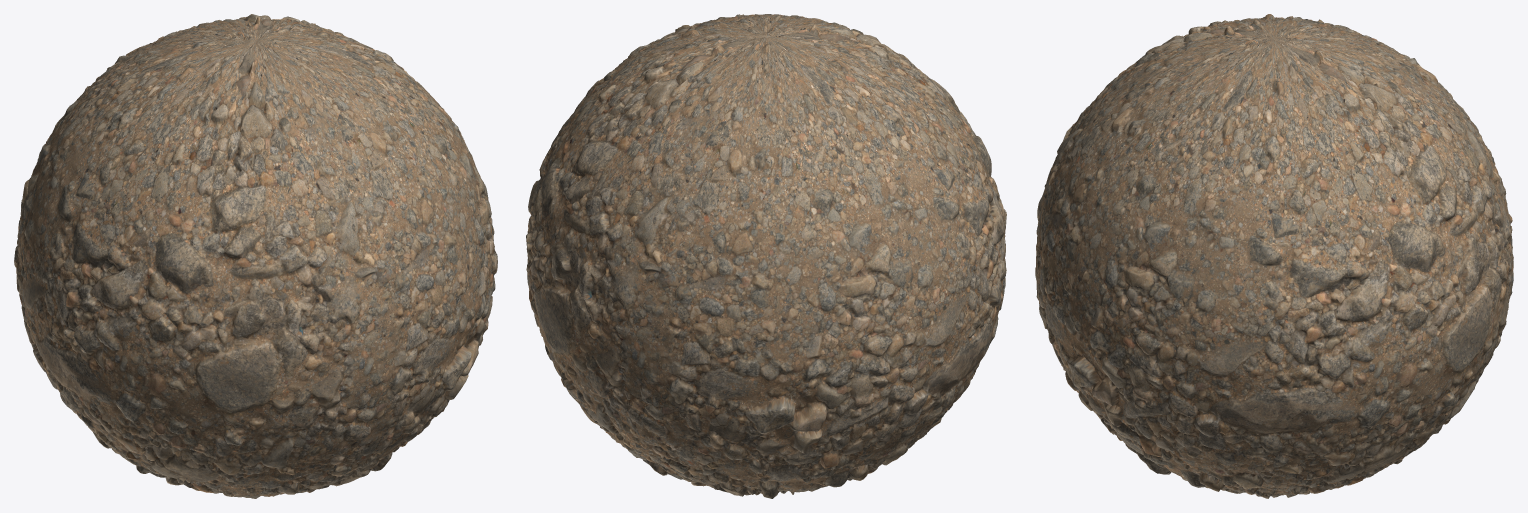
Rendered from rocky_trail_2k.gltf.
The picture shows the model from 3 angles, left to right: view 1: azimuth 30°, elevation 25°; view 2: azimuth 150°, elevation 25°; view 3: azimuth 270°, elevation 25°; orthographic projection.
Parts seen in each view (by area): view 1: sphere_gltf; view 2: sphere_gltf; view 3: sphere_gltf.
Boxes of the visible parts, x1,y1,x2,y2 form: sphere_gltf: (14,14,497,498); sphere_gltf: (526,14,1006,498); sphere_gltf: (1035,14,1513,498).
Size of the model in its own units: 2.02 by 2.02 by 2.
Materials: 1 (1 with a texture image).
